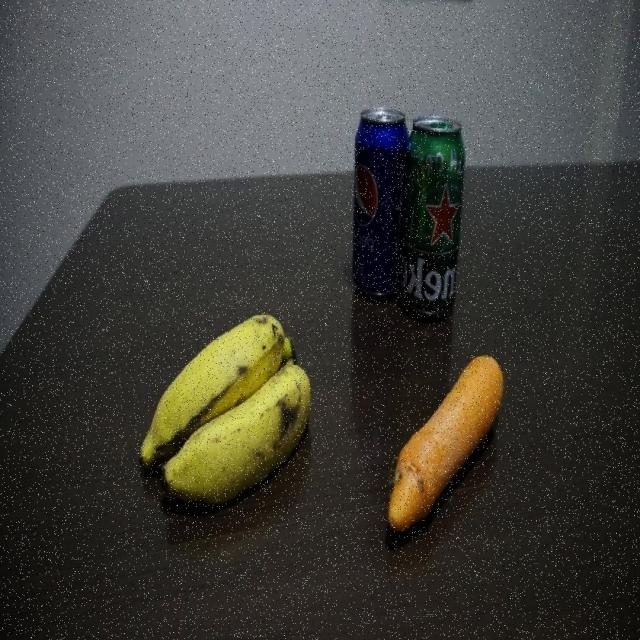Banana: (139, 313, 312, 508)
BeerCan: (398, 116, 466, 324)
Carrot: (387, 354, 503, 534)
SodaCan: (351, 106, 410, 300)
